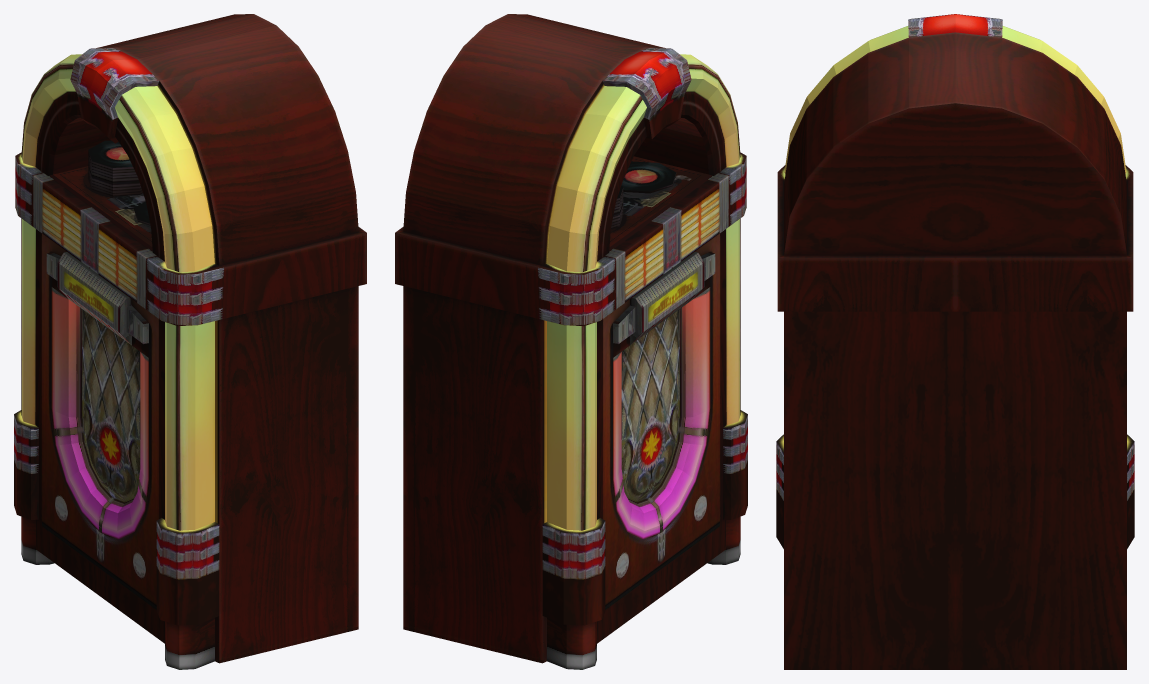
File: Jukebox.fbx
3 views of the same model, side by side, from view 1: azimuth 30°, elevation 25°; view 2: azimuth 150°, elevation 25°; view 3: azimuth 270°, elevation 25° (orthographic). The views are drawn at different scales.
Parts seen in each view (by area): view 1: Empty_Mesh; view 2: Empty_Mesh; view 3: Empty_Mesh.
Part boxes in pixels (<box>): Empty_Mesh: <box>14,14,366,669</box>; Empty_Mesh: <box>395,14,747,669</box>; Empty_Mesh: <box>776,14,1134,669</box>.
Bounding box in the file's own units: 55.53 × 151 × 85.72.
